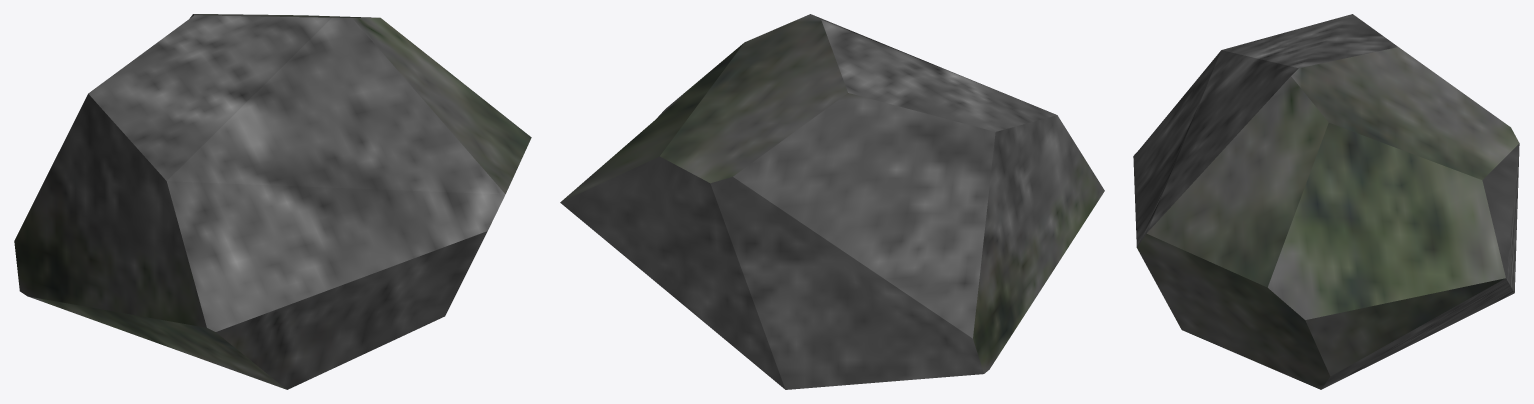
Rendered from mediun_rock_2.glb.
The picture shows the model from 3 angles, left to right: view 1: azimuth 30°, elevation 25°; view 2: azimuth 150°, elevation 25°; view 3: azimuth 270°, elevation 25°; orthographic projection. The views are drawn at different scales.
Parts seen in each view (by area): view 1: mediun rock 2_stone1_0; view 2: mediun rock 2_stone1_0; view 3: mediun rock 2_stone1_0.
Part boxes in pixels (x1,y1,x2,y2): mediun rock 2_stone1_0: (14,14,531,389); mediun rock 2_stone1_0: (560,14,1104,389); mediun rock 2_stone1_0: (1133,14,1519,389).
Size of the model in its own units: 2.9 by 1.8 by 2.41.
1 material, 1 textured.
